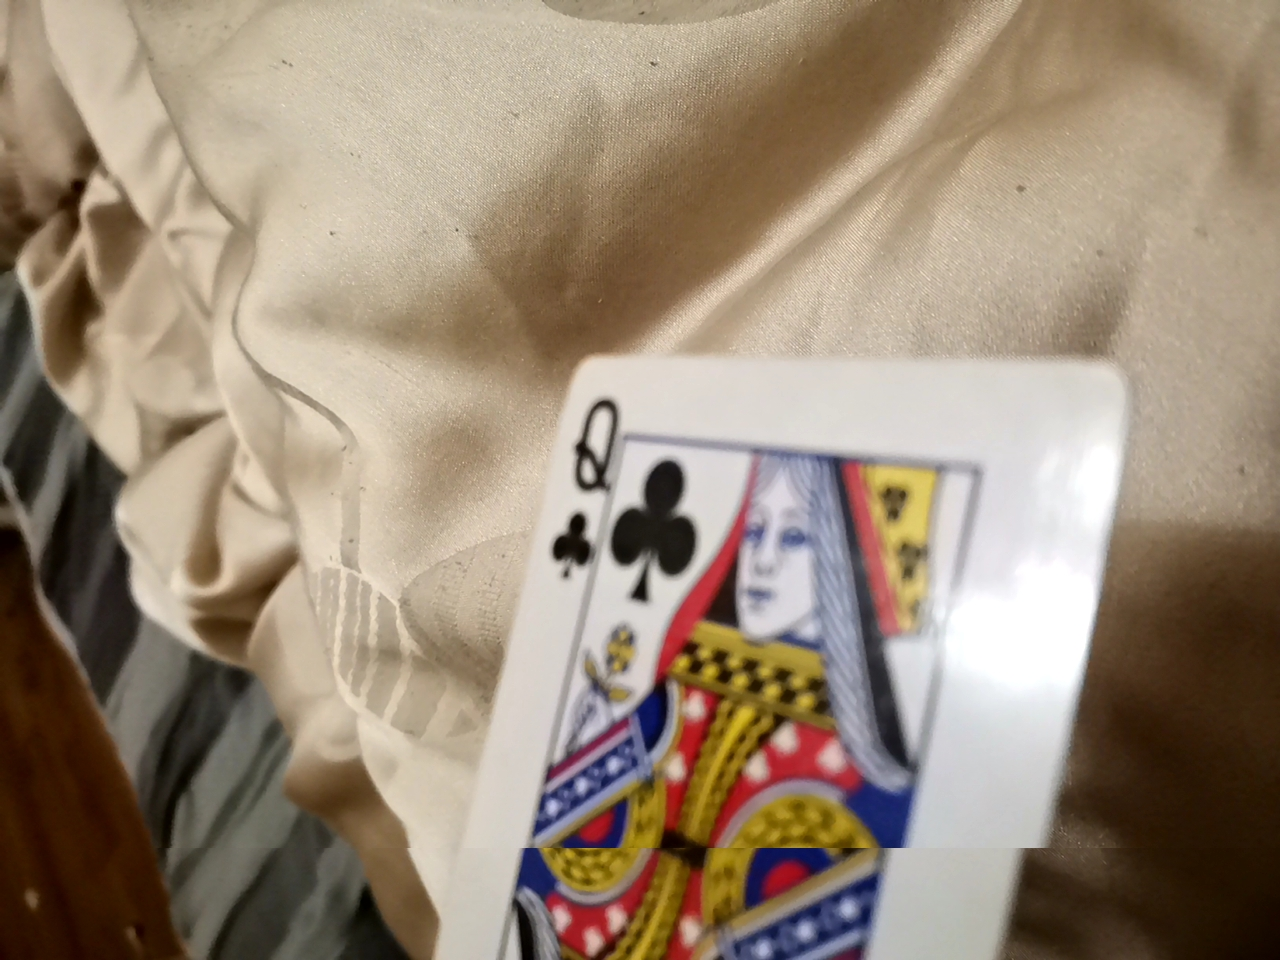mh q: (408, 358, 1127, 959)
